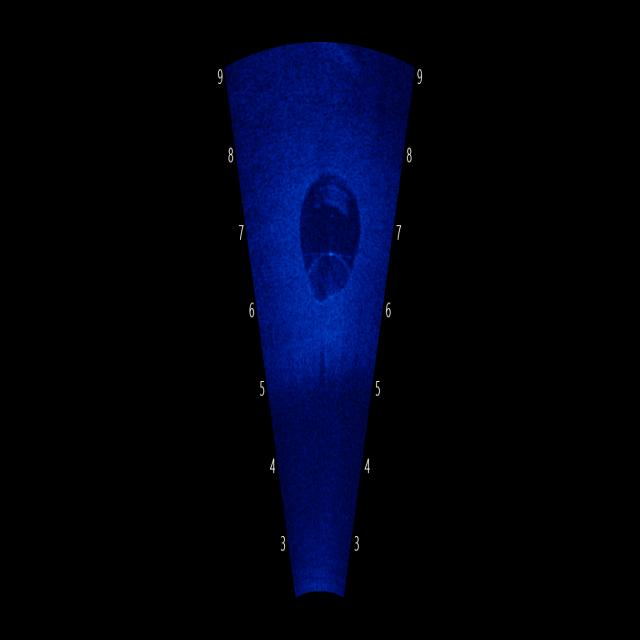circle: (292, 138, 366, 328)
